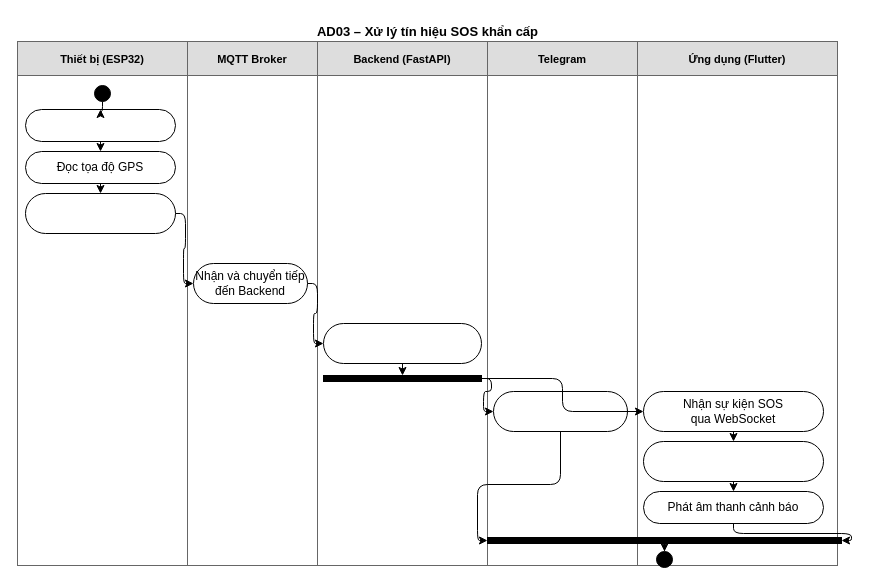
The diagram is 877 pixels wide and 585 high, and some of its shapes have lost their labels. Here are the shapes that lost their labels. From the top down, the centre of each, then its label:
At (x=100, y=125): "Trẻ nhấn nút SOS".
At (x=100, y=213): "Publish SOS payload lên MQTT Broker".
At (x=402, y=343): "Tạo bản ghi cảnh báo SOS vào MongoDB (khẩn cấp)".
At (x=560, y=411): "Gửi thông báo SOS kèm liên kết bản đồ".
At (x=733, y=461): "Hiển thị popup SOS toàn màn hình".
